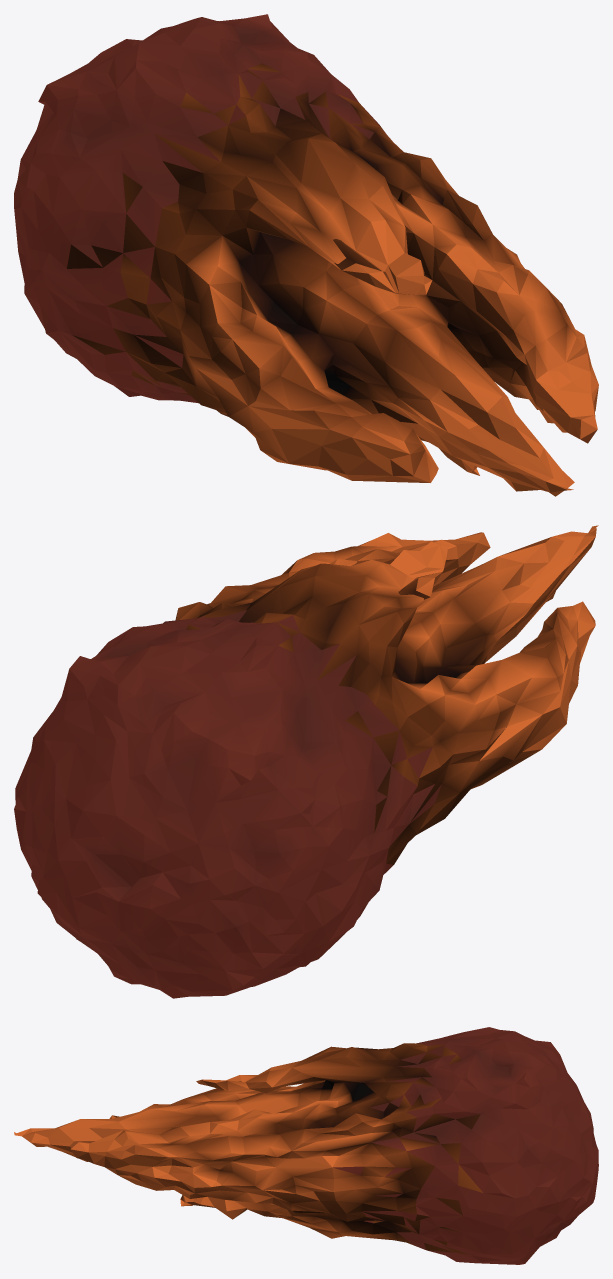
The model's file is cometedefeu.fbx.
The picture shows the model from 3 angles, top to bottom: view 1: azimuth 30°, elevation 25°; view 2: azimuth 150°, elevation 25°; view 3: azimuth 270°, elevation 25°; orthographic projection. The views are drawn at different scales.
Visible parts, largest first — view 1: Landscape; view 2: Landscape; view 3: Landscape.
Part boxes in pixels (x1,y1,x2,y2): Landscape: [14, 14, 598, 496]; Landscape: [14, 525, 598, 998]; Landscape: [14, 1027, 598, 1264].
Size of the model in its own units: 117 by 117 by 288.
